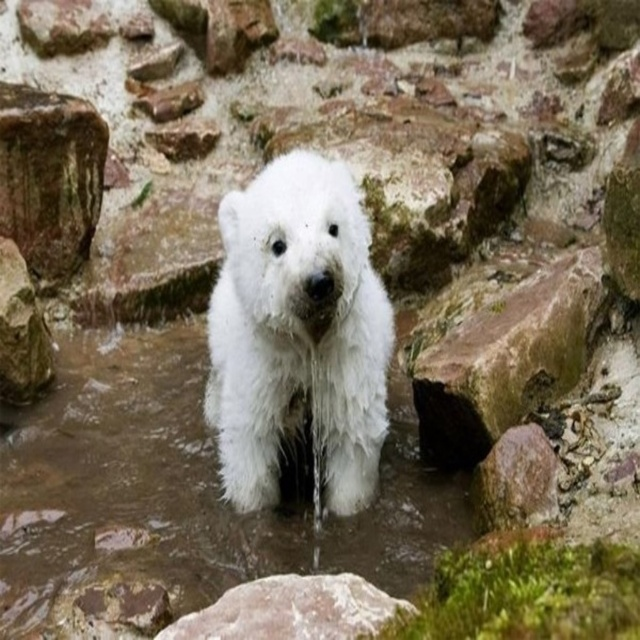Polar bear: (199, 147, 395, 513)
